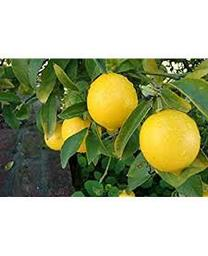lemon: (141, 110, 199, 175), (88, 71, 138, 129)
